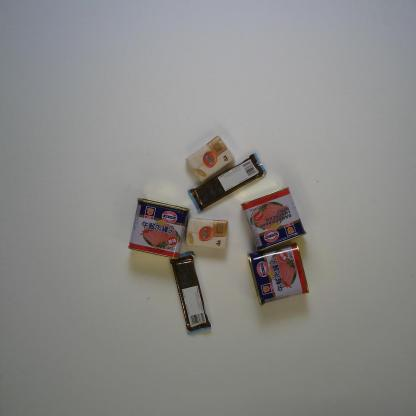Canned Food: (240, 186, 307, 253), (247, 242, 310, 307), (127, 198, 190, 260)
Chocolate: (188, 152, 268, 214), (169, 250, 212, 335)
Tissue: (185, 135, 235, 183), (185, 218, 228, 249)
